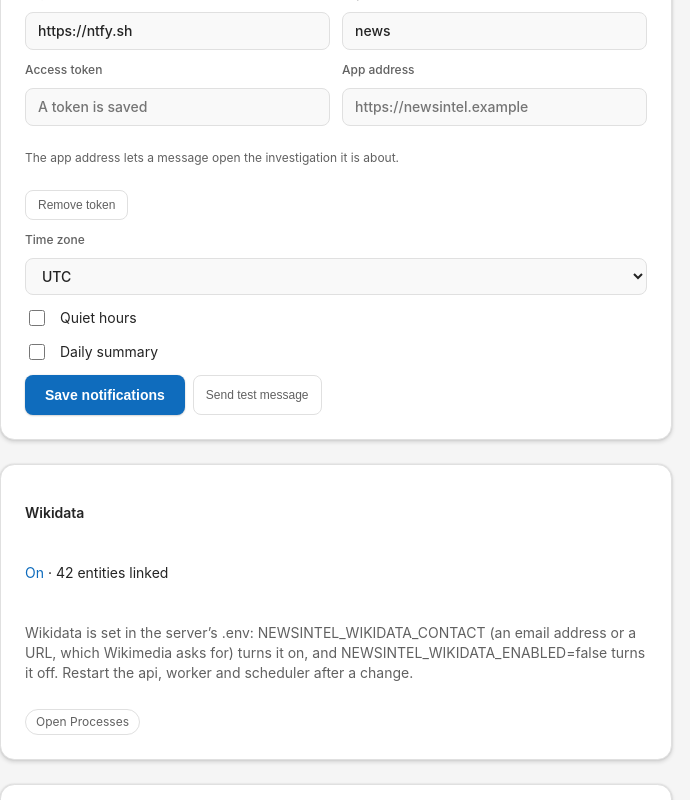
it: keeps a saved token unless removed, and leaves out quiet hours that are off
(page scrolled)
Expected: the field showing "news" is shown, x1=342 y1=12 x2=647 y2=50
Click the button "Save notifications" at (105, 395), box x1=25 y1=375 x2=185 y2=415
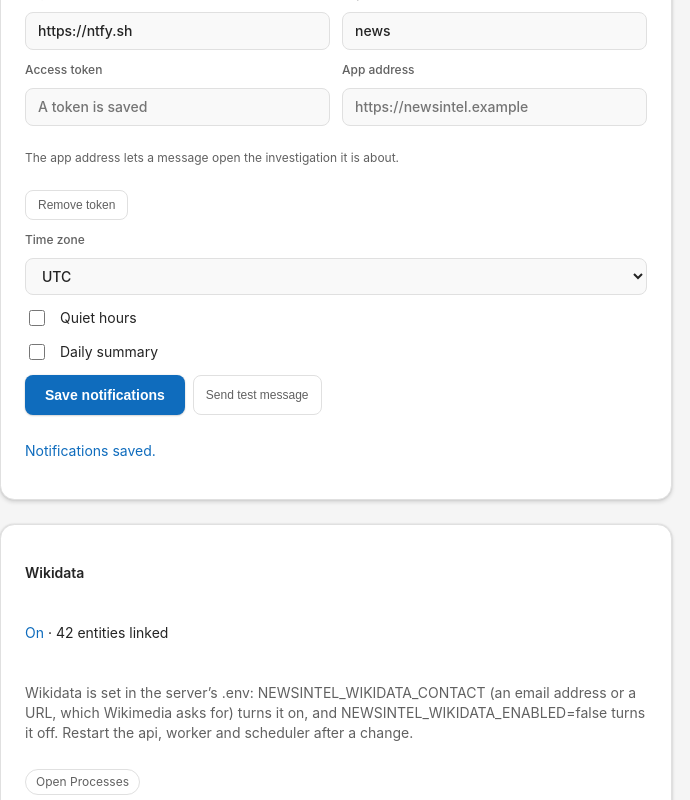
Click the button "Remove token" at (77, 205), box x1=25 y1=190 x2=128 y2=220
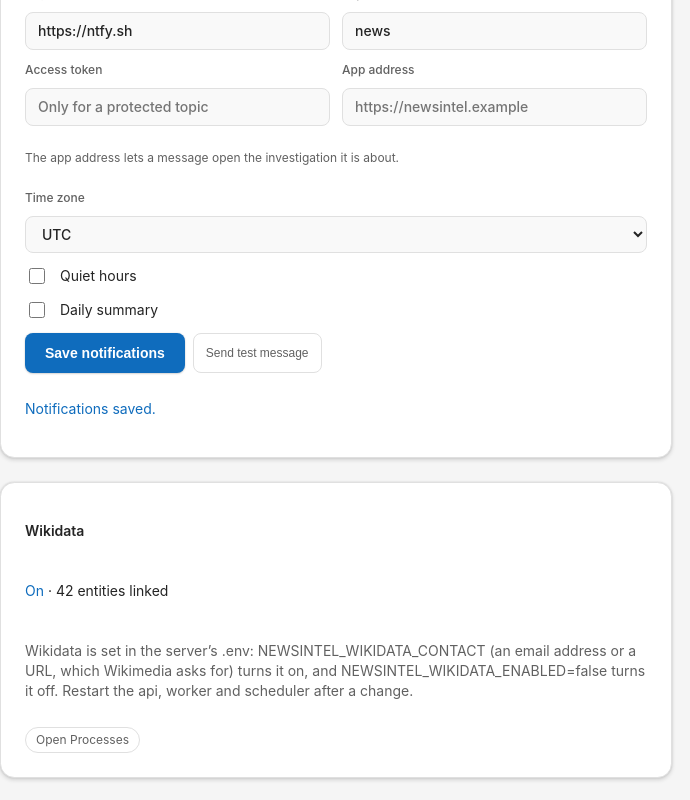
Result: the button "Remove token" is gone
